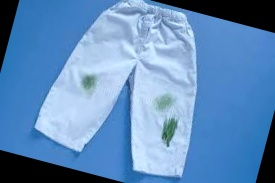earth: (159, 117, 180, 145), (154, 92, 172, 111), (82, 74, 96, 92)
